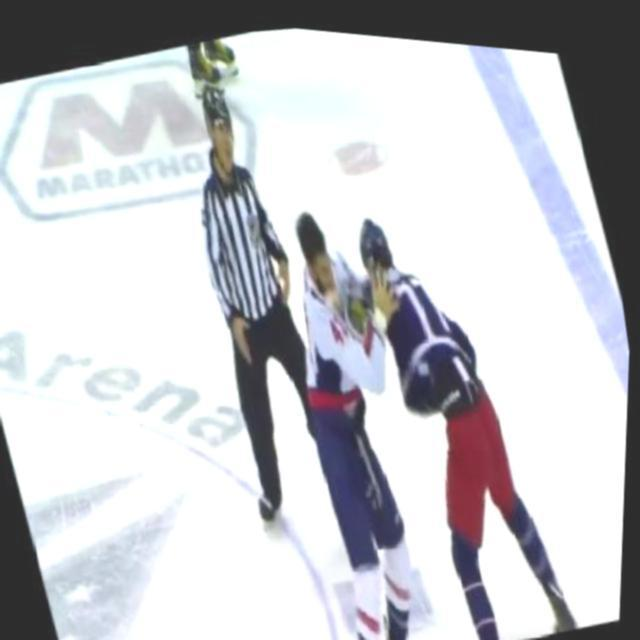fight: (236, 143, 592, 640)
